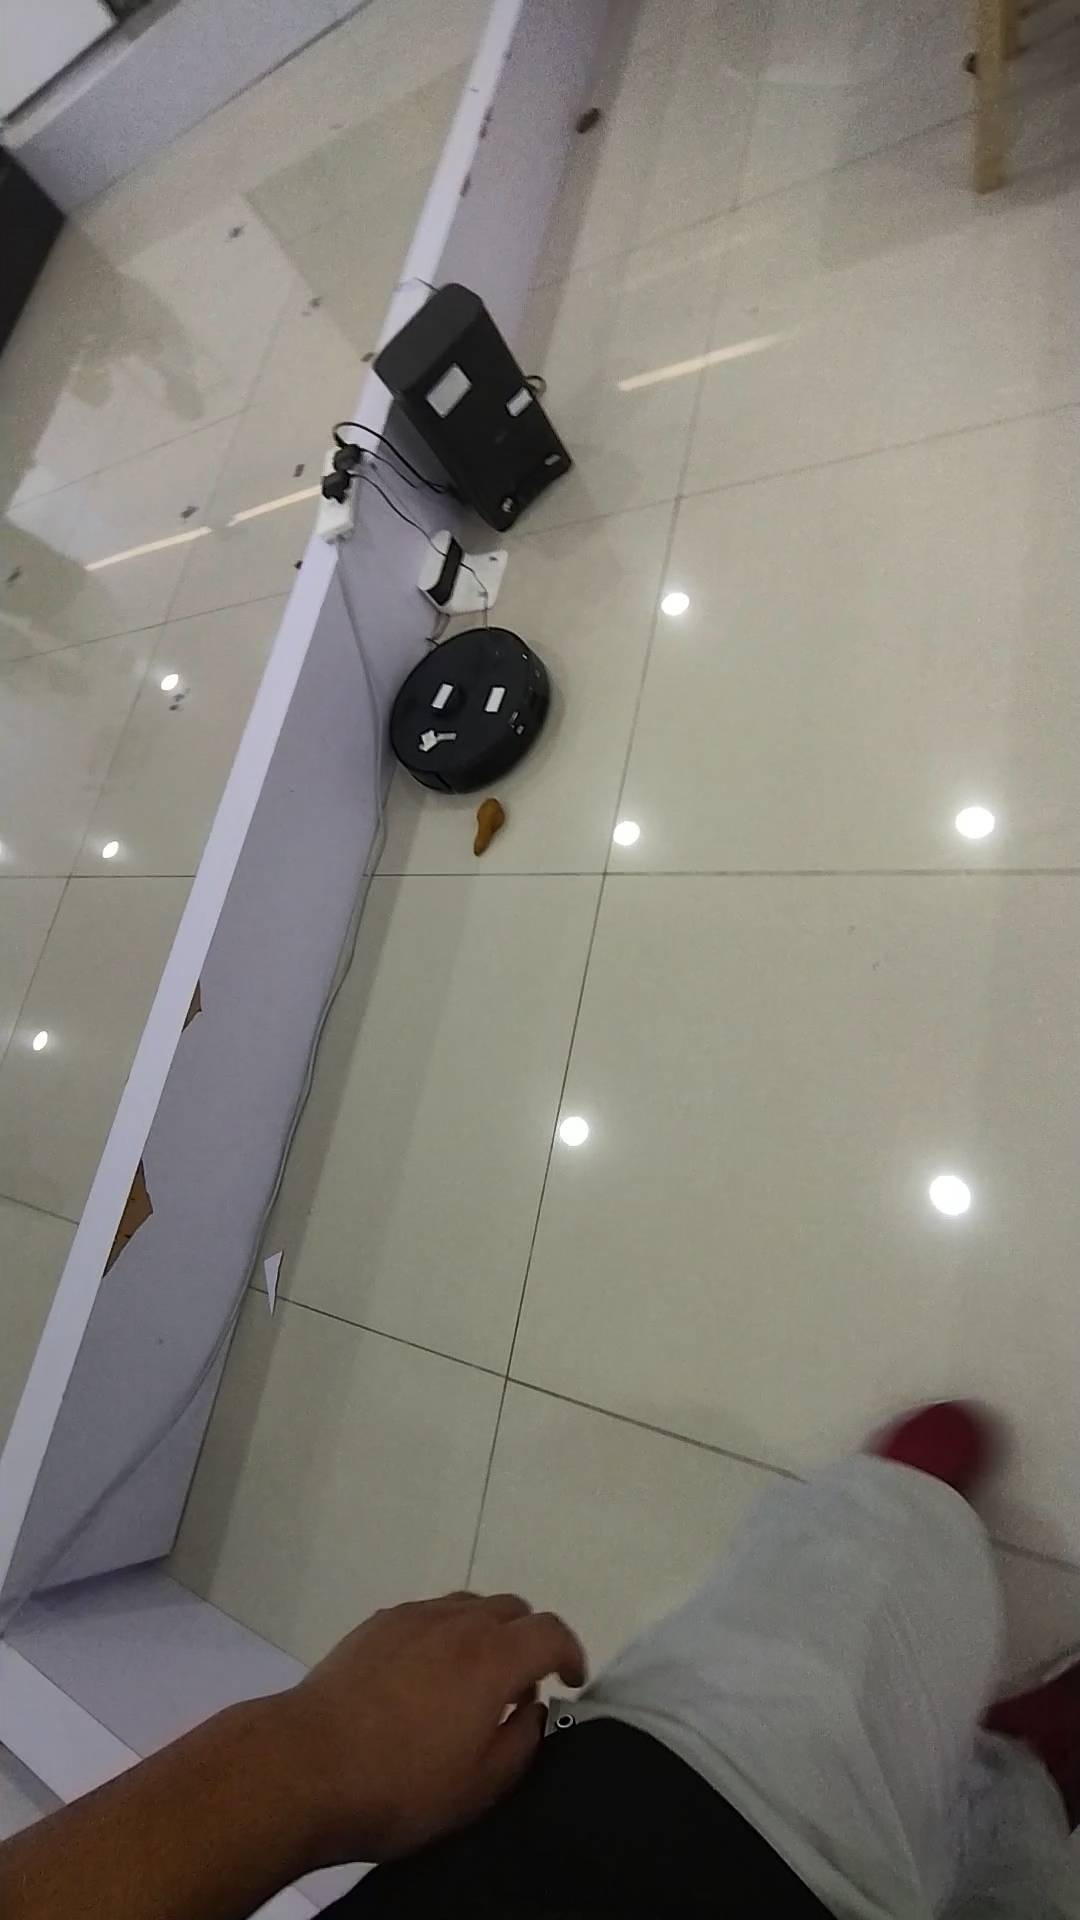dust collecting barrel: (376, 285, 578, 533)
recharge seat: (415, 527, 517, 615)
